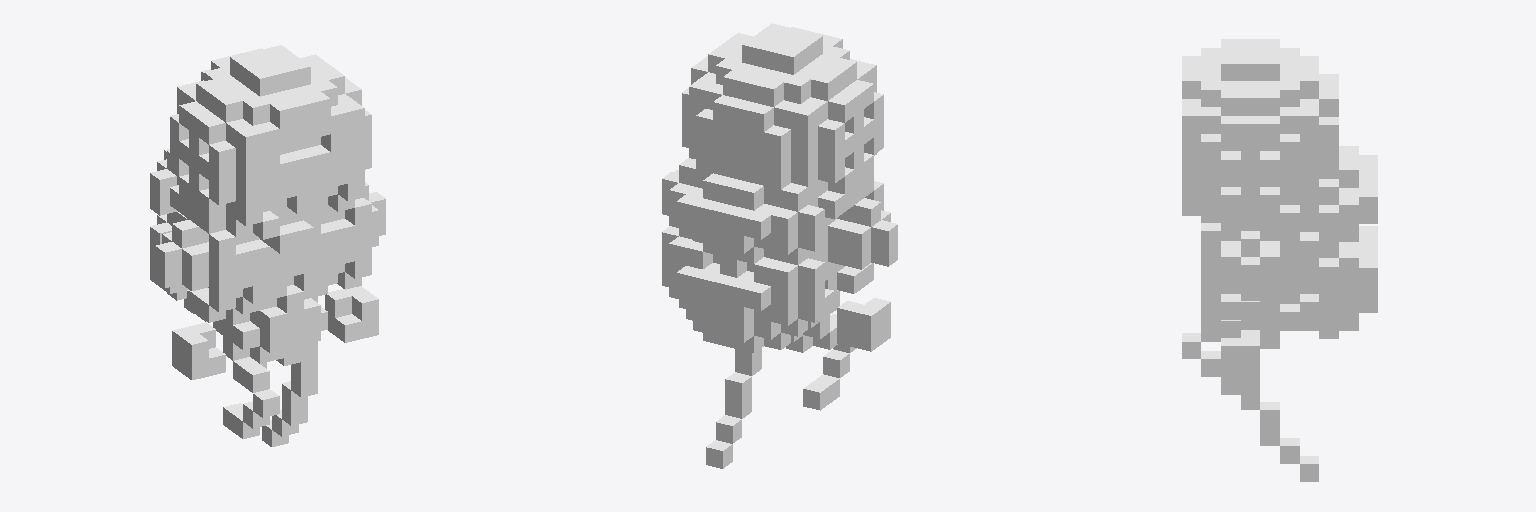
Rendered from player_walk-03.obj.
3 renders of one model, left to right at view 1: azimuth 30°, elevation 25°; view 2: azimuth 150°, elevation 25°; view 3: azimuth 270°, elevation 25°, orthographic.
Bounding box in the file's own units: 13 × 23 × 10.